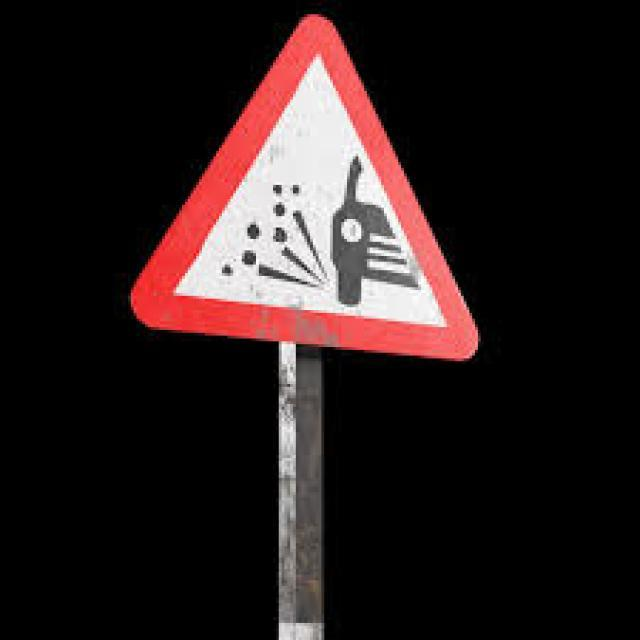loose gravel: (123, 14, 482, 367)
